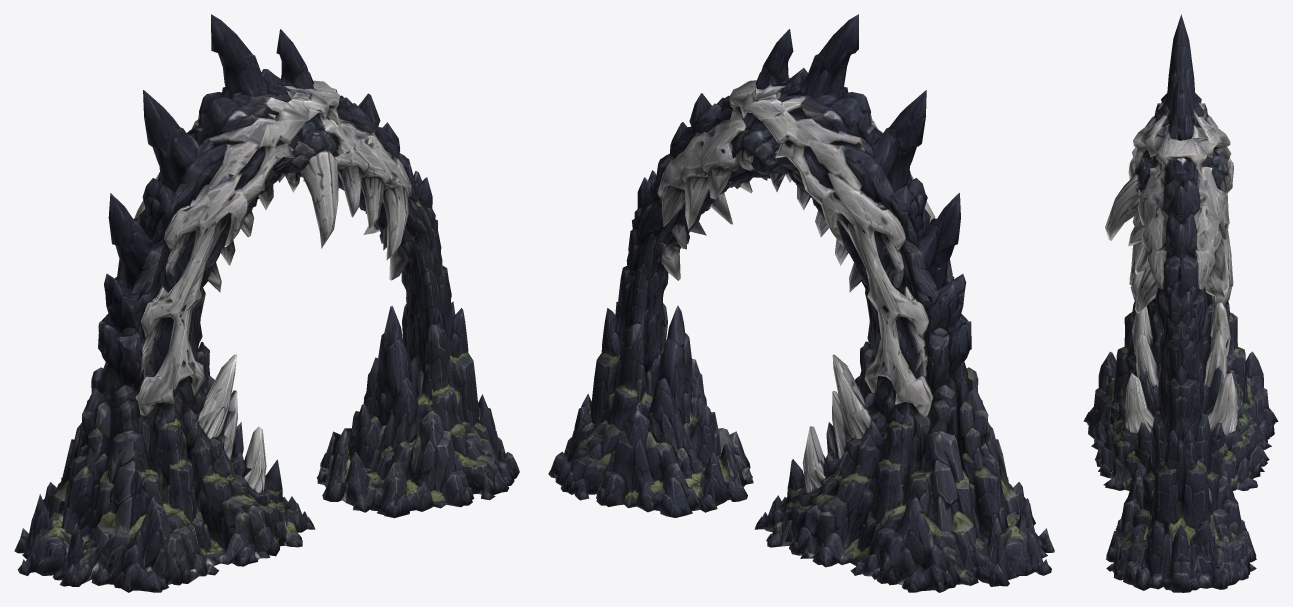
File: leviathan_jaw_arch.glb
3 views of the same model, side by side, from view 1: azimuth 30°, elevation 25°; view 2: azimuth 150°, elevation 25°; view 3: azimuth 270°, elevation 25° (orthographic). The views are drawn at different scales.
Visible parts, largest first — view 1: Model; view 2: Model; view 3: Model.
Part boxes in pixels (left/top/right/bottom): Model: left=14, top=14, right=519, bottom=592; Model: left=548, top=14, right=1054, bottom=592; Model: left=1083, top=14, right=1278, bottom=592.
Bounding box in the file's own units: 55.4 × 56 × 21.86.
1 material, 1 textured.
